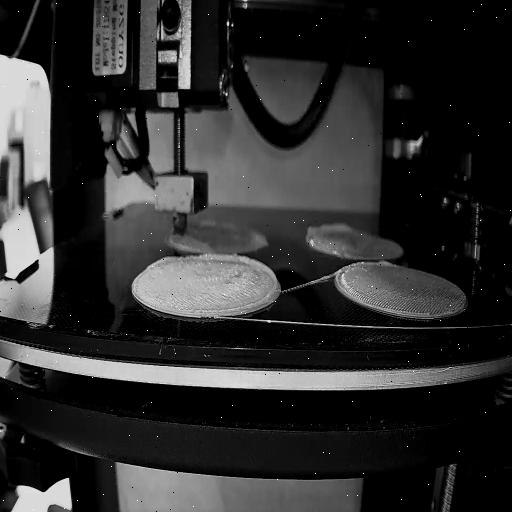over_extrusion: (193, 254, 279, 314), (306, 222, 352, 242), (148, 252, 178, 272), (168, 235, 198, 250), (376, 259, 394, 267)
